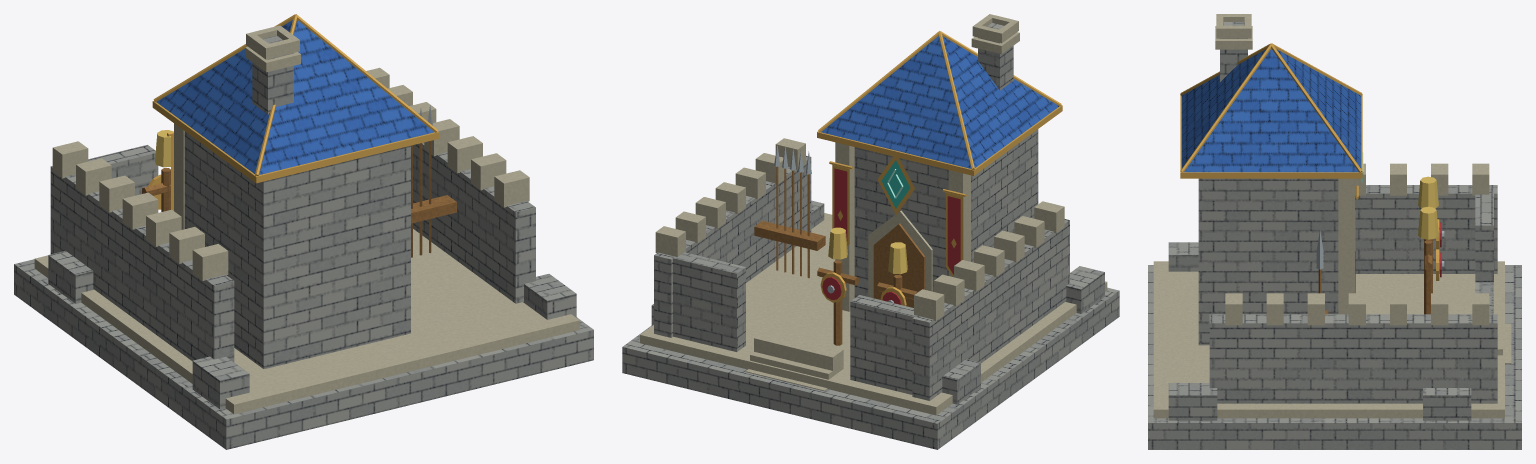
Rendered from Barracks_1.fbx.
The picture shows the model from 3 angles, left to right: view 1: azimuth 30°, elevation 25°; view 2: azimuth 150°, elevation 25°; view 3: azimuth 270°, elevation 25°; orthographic projection. The views are drawn at different scales.
Parts seen in each view (by area): view 1: BuildingBody; view 2: BuildingBody; view 3: BuildingBody.
Boxes of the visible parts, x1=… form: BuildingBody: x1=14, y1=14, x2=593, y2=449; BuildingBody: x1=622, y1=14, x2=1119, y2=449; BuildingBody: x1=1148, y1=14, x2=1521, y2=449.
Bounding box in the file's own units: 1 × 0.92 × 1.
1 material, 1 textured.
